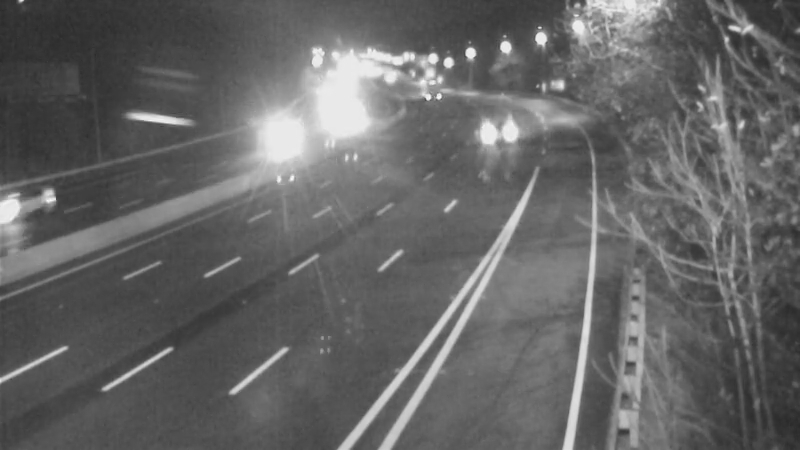vehicle: (1, 161, 80, 241), (402, 68, 452, 118), (475, 102, 525, 152), (260, 115, 310, 165), (310, 95, 360, 145)
